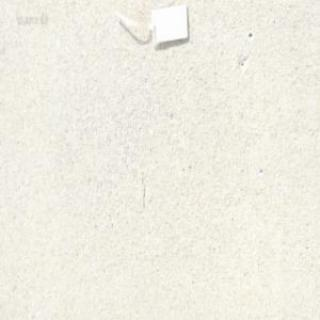LuggageTagtrack_idkeyframe: (107, 1, 188, 52)
